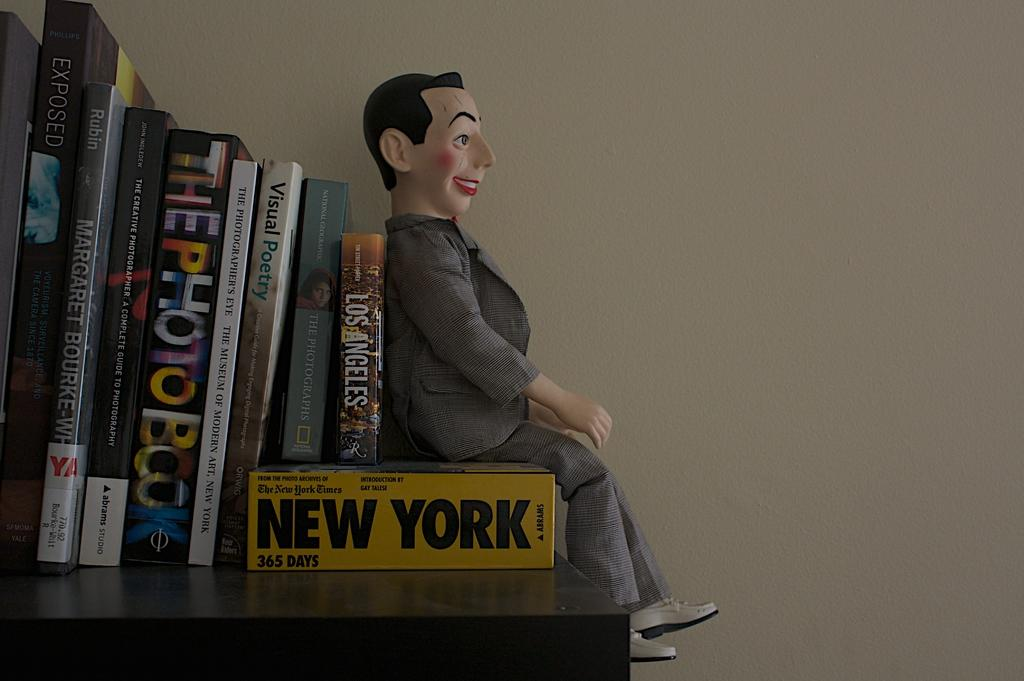Book: (120, 128, 254, 566), (78, 105, 177, 567), (36, 81, 126, 575), (212, 157, 303, 565), (279, 176, 349, 463), (335, 232, 385, 464)
